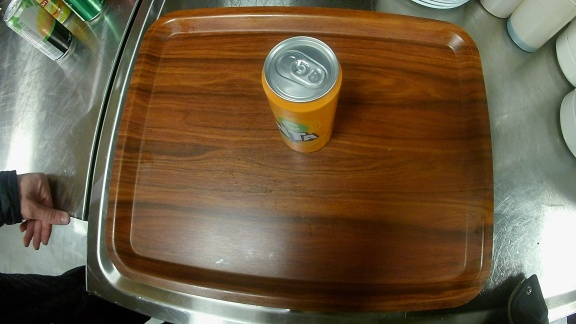kutufanta: (261, 32, 344, 164)
